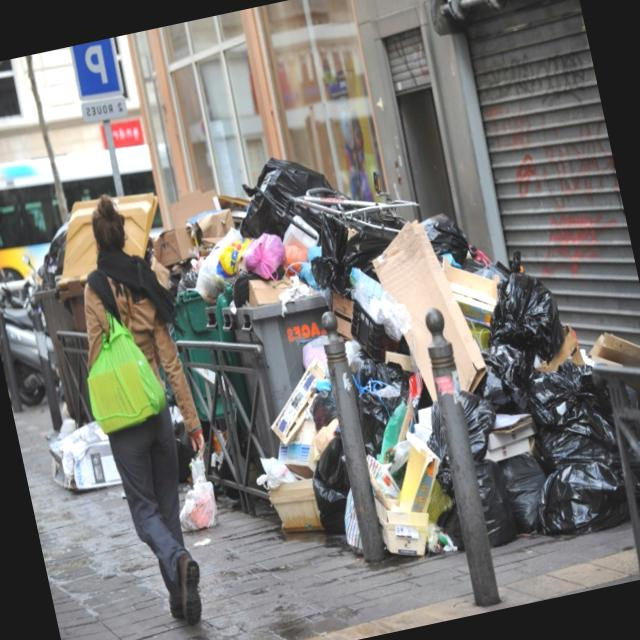garbage: (168, 60, 640, 594)
